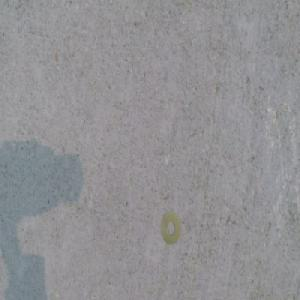Washer: (160, 210, 181, 244)
